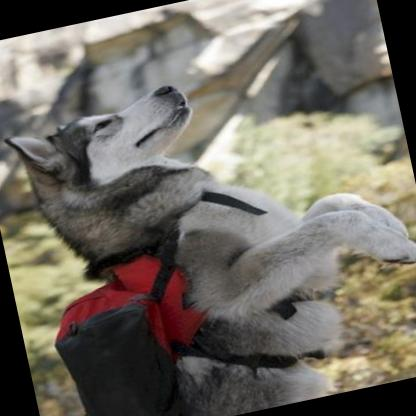malamute: (0, 37, 416, 416)
